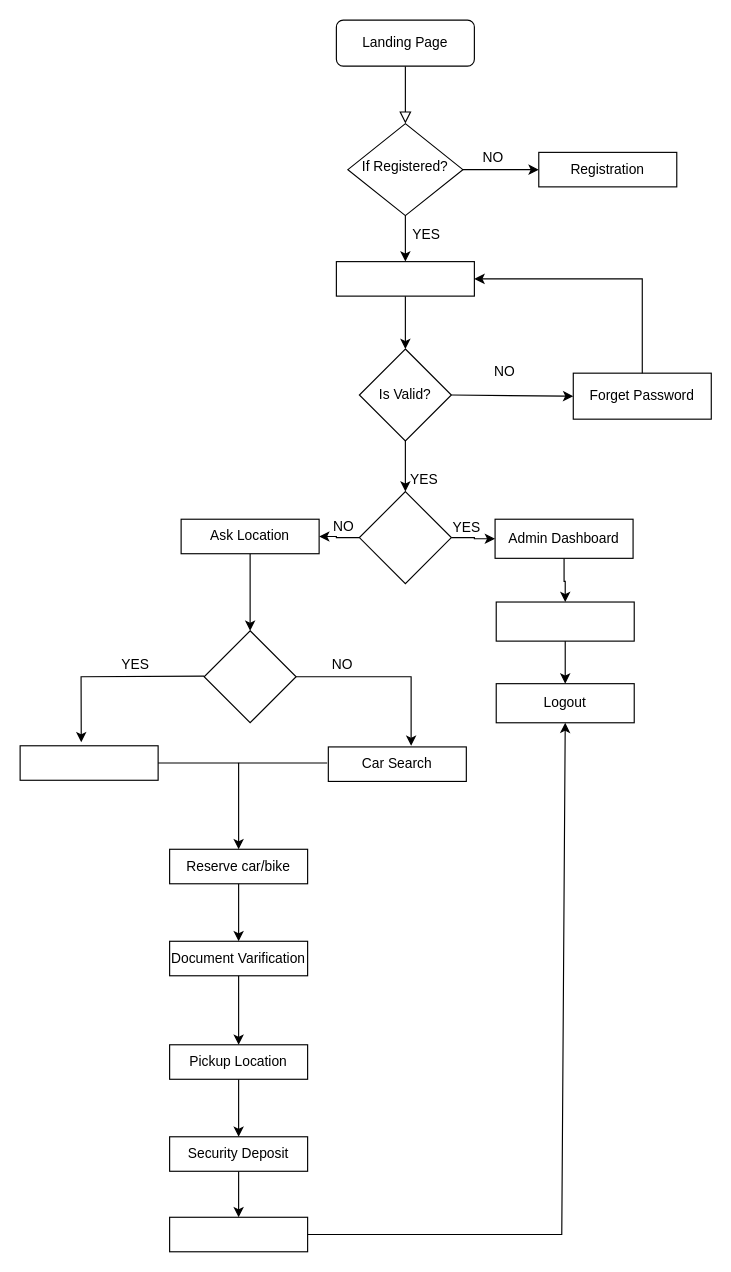
The diagram is 731 pixels wide and 1272 high, and some of its shapes have lost their labels. The shapes that lost their labels are listed below. From the top down, each one's centre as x and y in pixels, then its label:
At point (404, 278): "Login".
At point (404, 537): "Is Admin?".
At point (564, 621): "Update Interface".
At point (249, 676): "Special Location?".
At point (88, 762): "Car/Bike Search".
At point (238, 1234): "Confirm".
